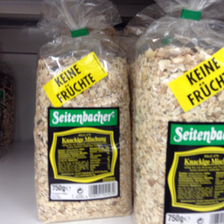cereal: (129, 14, 224, 222), (32, 26, 133, 220)
